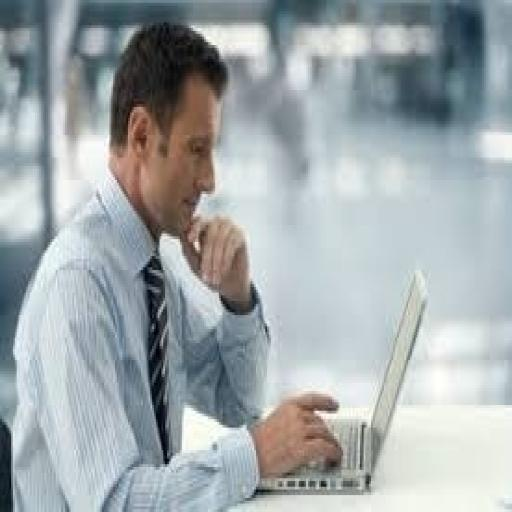using_laptop: (254, 265, 429, 495)
